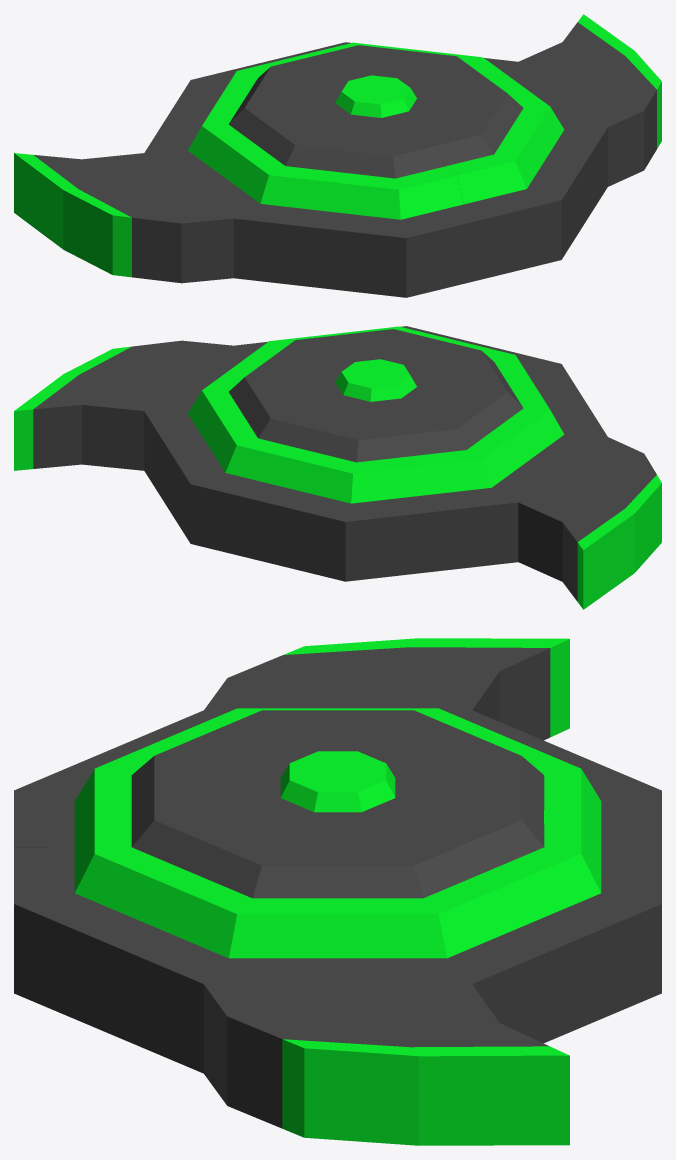
The model's file is ShipGreen.FBX.
The picture shows the model from 3 angles, top to bottom: view 1: azimuth 30°, elevation 25°; view 2: azimuth 150°, elevation 25°; view 3: azimuth 270°, elevation 25°; orthographic projection. The views are drawn at different scales.
Visible parts, largest first — view 1: Cylinder001; view 2: Cylinder001; view 3: Cylinder001.
Boxes of the visible parts, box(x1,y1,x2,y2) form: Cylinder001: box(14, 14, 661, 297); Cylinder001: box(14, 326, 661, 609); Cylinder001: box(14, 638, 661, 1145).
Bounding box in the file's own units: 55.28 × 10.17 × 36.21.
